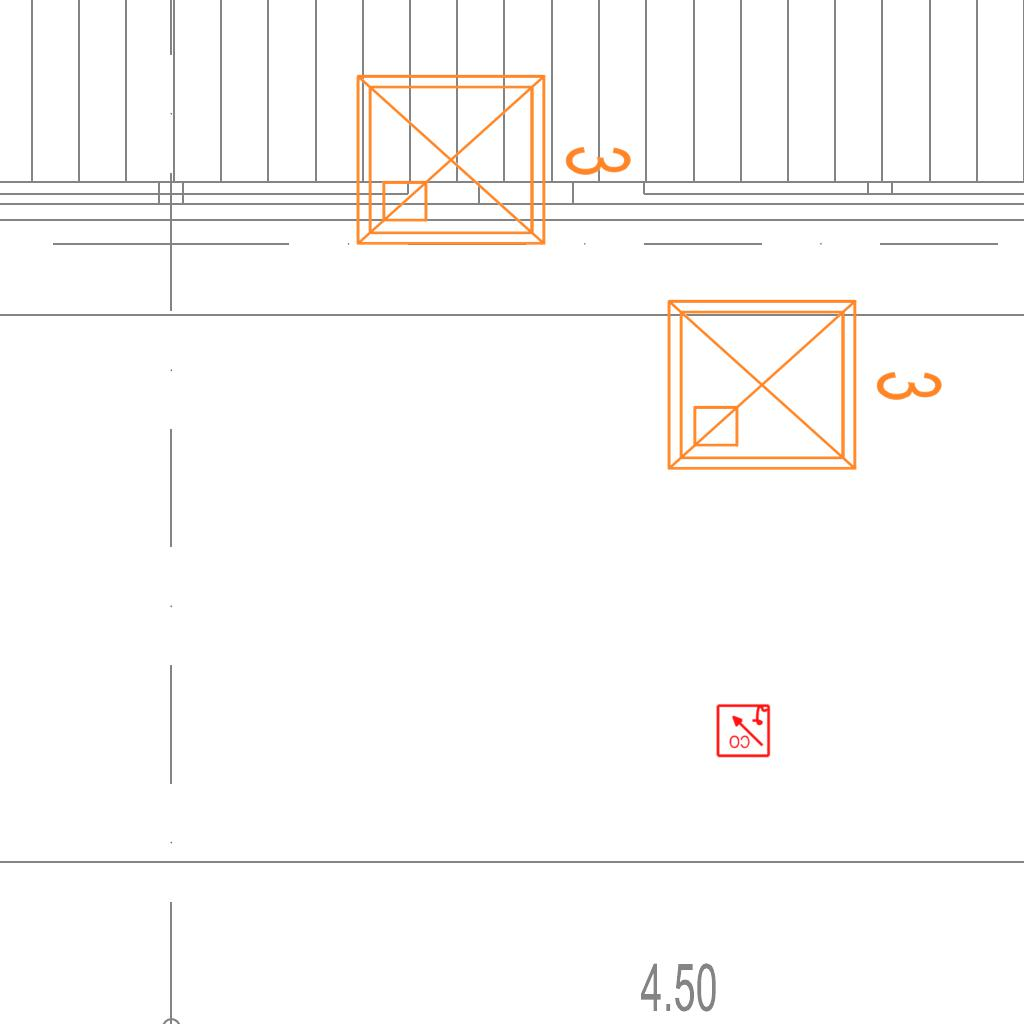Einbaudownlights_LED_Konferenzraeume: (342, 52, 642, 260), (653, 277, 953, 485)
ROA_Rauchmelder_optisch_mit_Signalgeber_(Sockelsirene): (715, 702, 771, 758)
